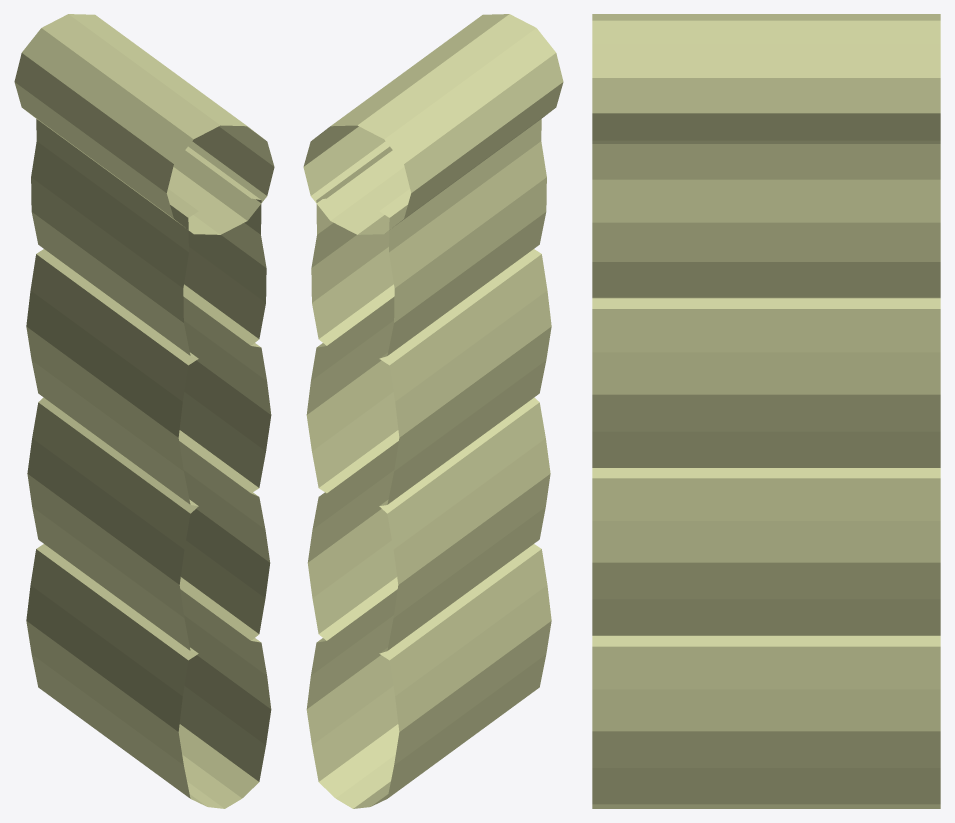
The model's file is Afschermingswand02_LOD0.fbx.
3 views of the same model, side by side, from view 1: azimuth 30°, elevation 25°; view 2: azimuth 150°, elevation 25°; view 3: azimuth 270°, elevation 25° (orthographic). The views are drawn at different scales.
Parts seen in each view (by area): view 1: Afschermingswand_LOD0; view 2: Afschermingswand_LOD0; view 3: Afschermingswand_LOD0.
Part boxes in pixels (x1,y1,x2,y2): Afschermingswand_LOD0: [14, 14, 274, 808]; Afschermingswand_LOD0: [303, 14, 563, 808]; Afschermingswand_LOD0: [592, 14, 940, 808].
Size of the model in its own units: 0.8181 by 4.97 by 2.
